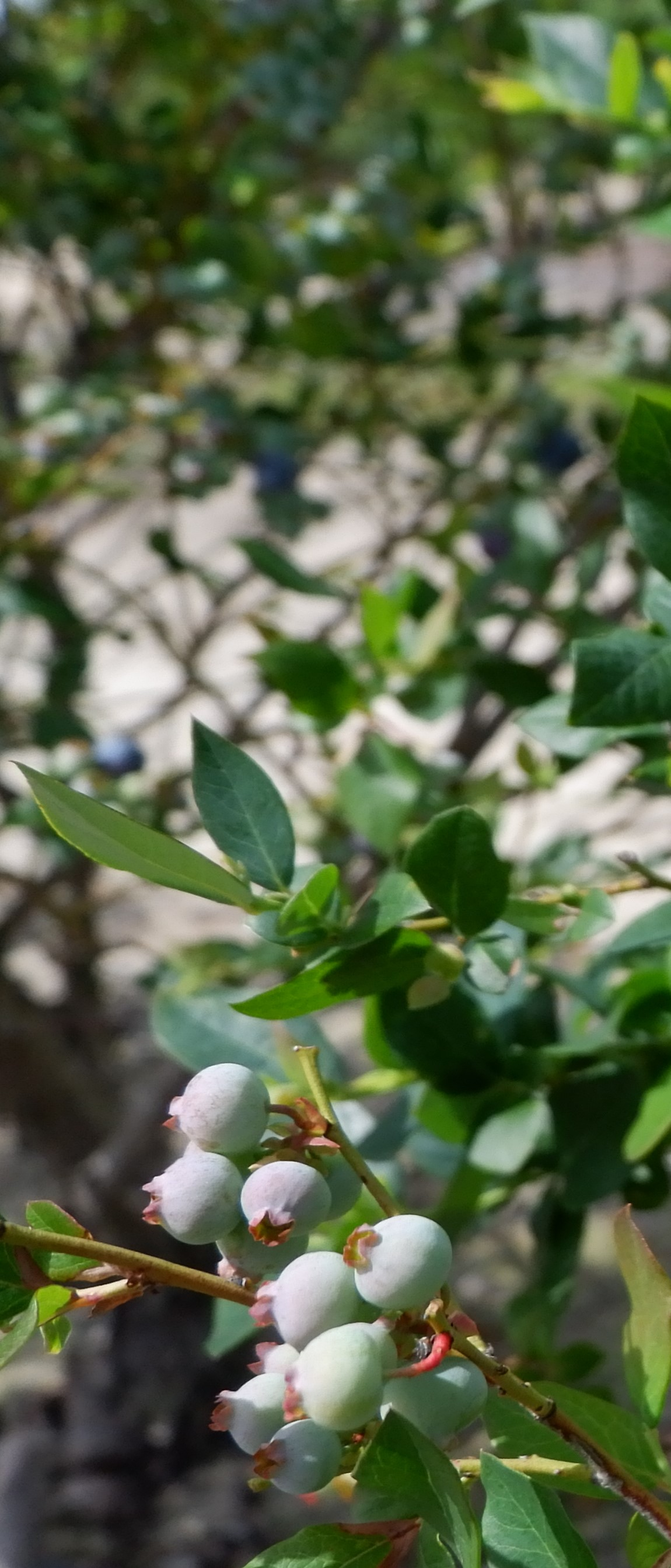Immature: (249, 1252, 364, 1354), (286, 1324, 385, 1431), (343, 1216, 456, 1308), (380, 1356, 489, 1451), (165, 1062, 267, 1157), (141, 1155, 244, 1246), (241, 1161, 332, 1246), (215, 1216, 310, 1287), (254, 1420, 341, 1497), (210, 1374, 286, 1456), (350, 1320, 400, 1383), (183, 1141, 265, 1179), (320, 1149, 363, 1221), (246, 1343, 300, 1375)
